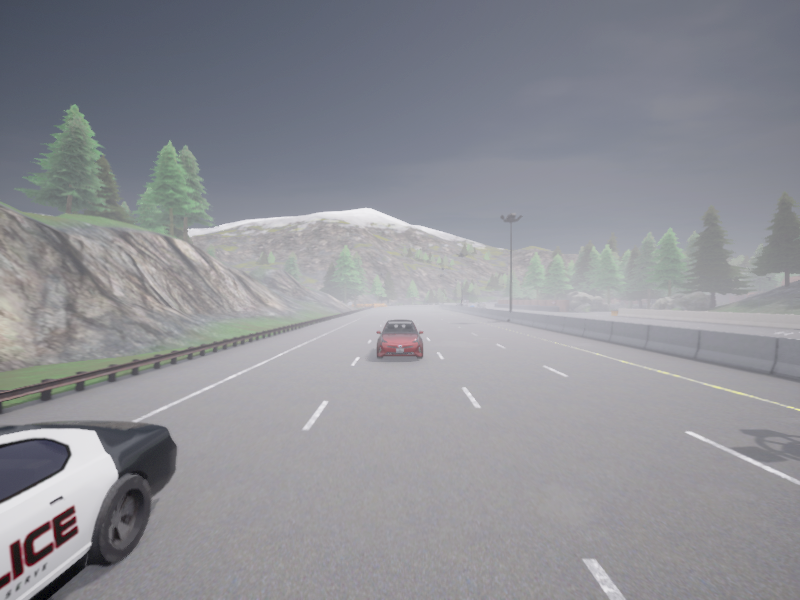vehicle: (0, 420, 177, 599), (376, 320, 423, 358), (476, 303, 485, 307), (462, 300, 468, 305), (455, 303, 460, 305), (470, 304, 474, 306)
